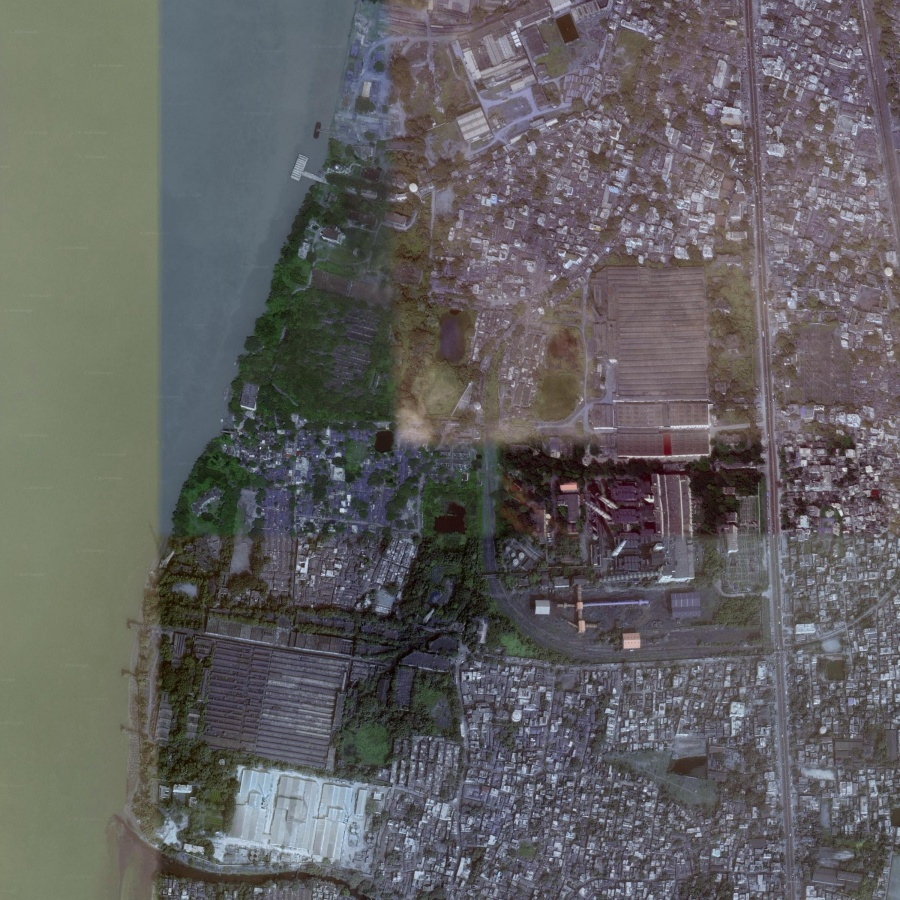PowerPlant: (489, 409, 734, 648)
